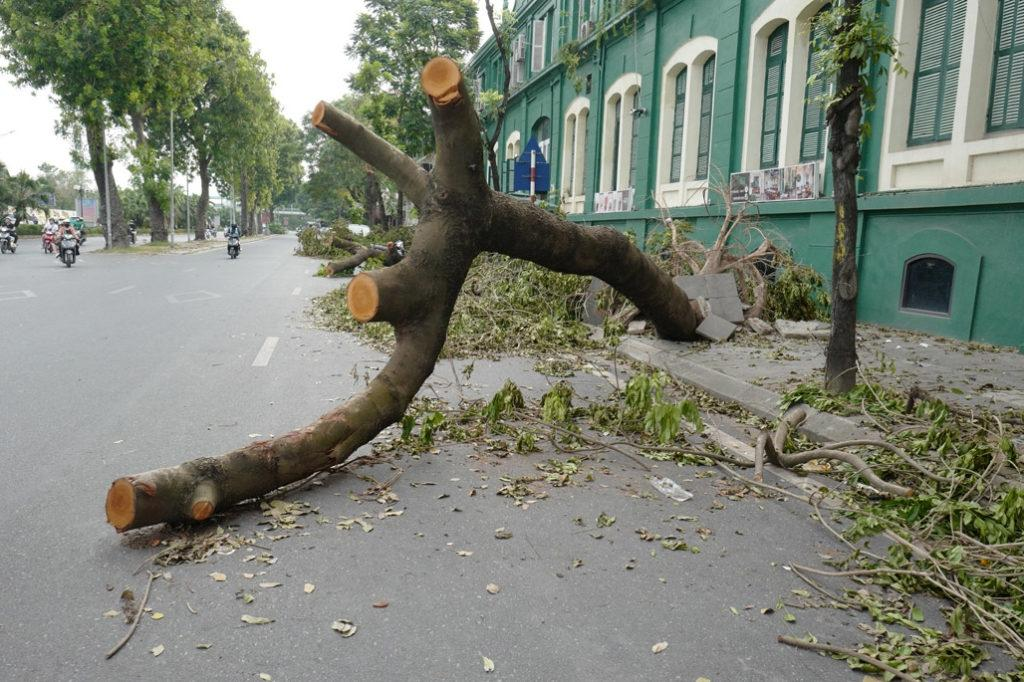ROAD_OBSTACLE: (124, 80, 724, 682)
